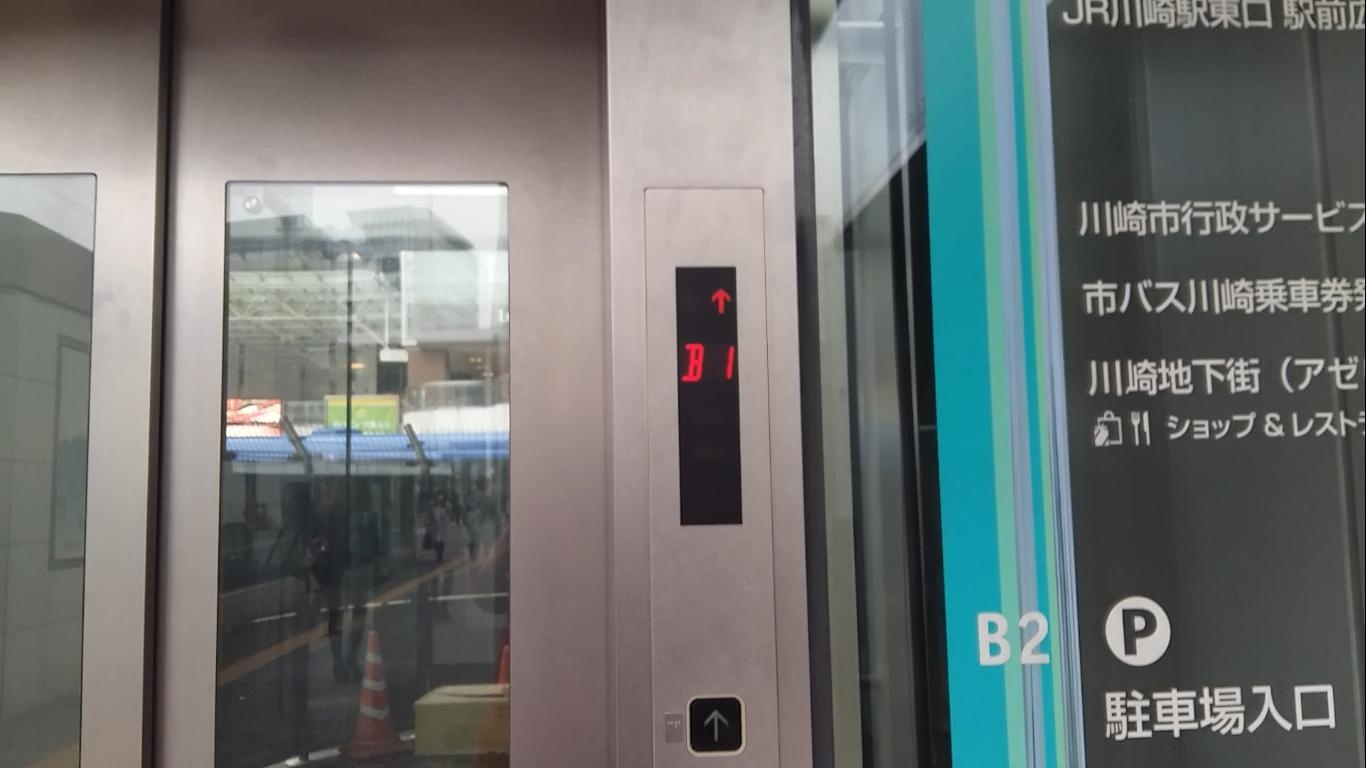led: (675, 266, 742, 525)
up: (687, 695, 745, 757)
